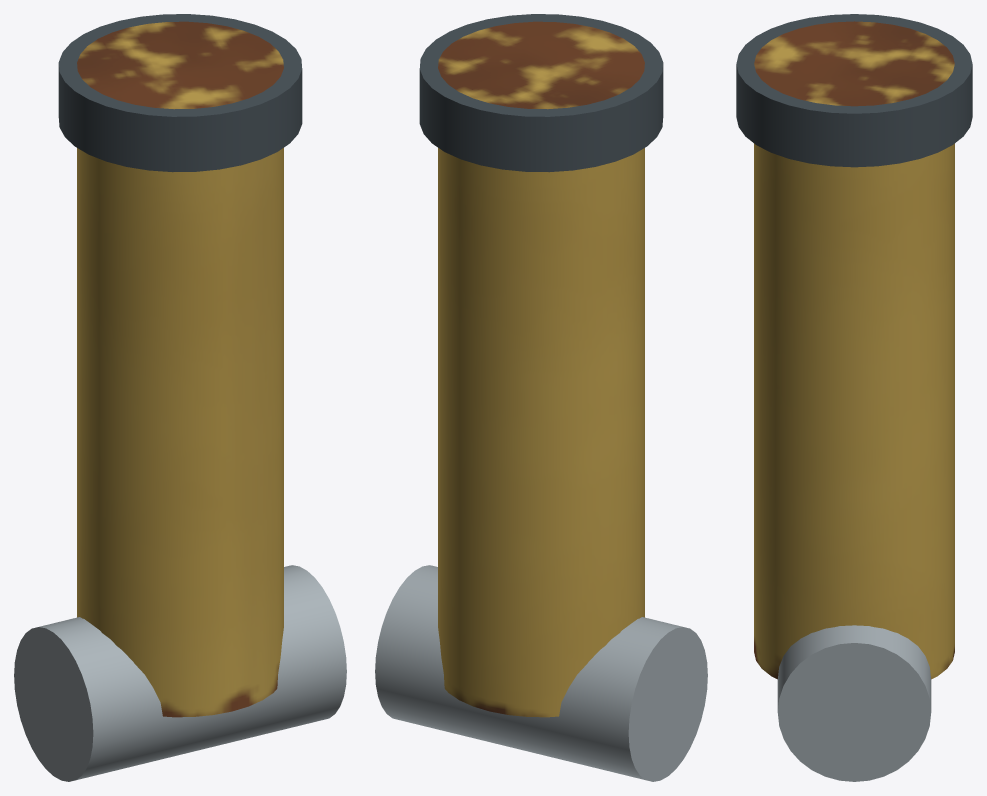
The model's file is grab_actuator_barrel.glb.
The picture shows the model from 3 angles, left to right: view 1: azimuth 30°, elevation 25°; view 2: azimuth 150°, elevation 25°; view 3: azimuth 270°, elevation 25°; orthographic projection. The views are drawn at different scales.
Visible parts, largest first — view 1: grab_actuator_barrel; view 2: grab_actuator_barrel; view 3: grab_actuator_barrel.
Part boxes in pixels (x1,y1,x2,y2): grab_actuator_barrel: [14, 14, 346, 781]; grab_actuator_barrel: [375, 14, 707, 781]; grab_actuator_barrel: [736, 14, 972, 781].
Size of the model in its own units: 0.24 by 0.615 by 0.2.
3 materials, 1 textured.
